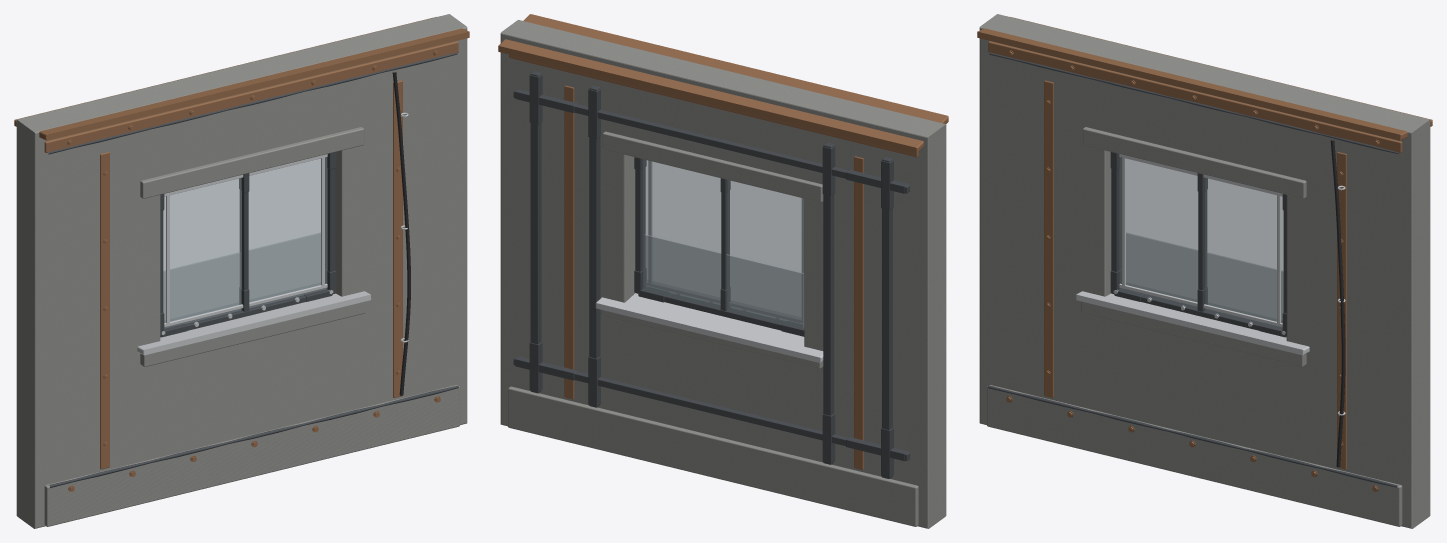
Rendered from window.glb.
3 views of the same model, side by side, from view 1: azimuth 30°, elevation 25°; view 2: azimuth 150°, elevation 25°; view 3: azimuth 330°, elevation 25° (orthographic).
Visible parts, largest first — view 1: wall-bay-window; view 2: wall-bay-window; view 3: wall-bay-window.
Boxes of the visible parts, box(x1,y1,x2,y2) form: wall-bay-window: box(14, 14, 469, 528); wall-bay-window: box(498, 14, 948, 528); wall-bay-window: box(977, 14, 1432, 528).
Size of the model in its own units: 4.02 by 3.54 by 0.5199.
Materials: 6 (1 with a texture image).
